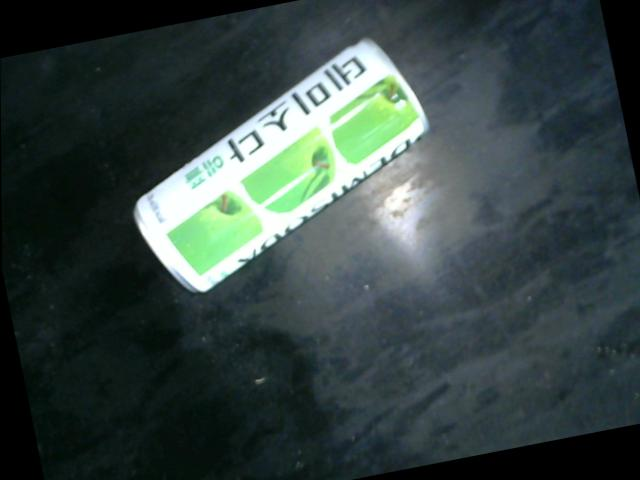can: (131, 34, 431, 294)
